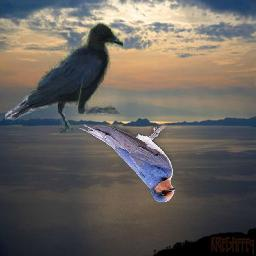Crow: (5, 23, 123, 134)
Swallow: (79, 124, 175, 202)
